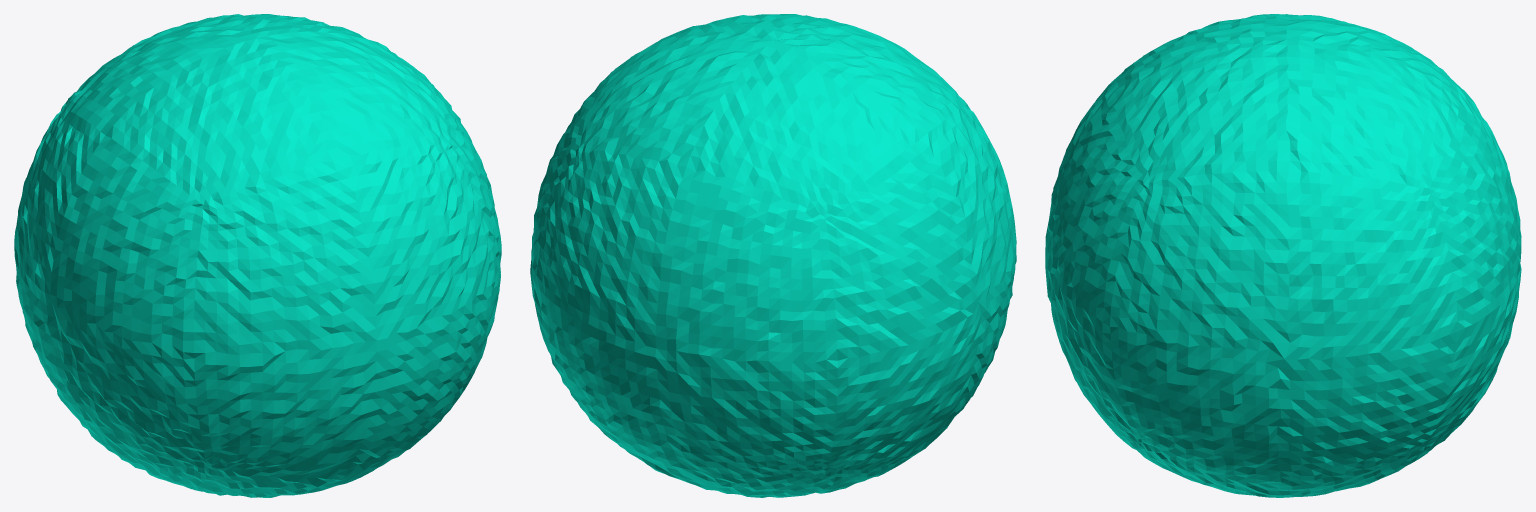
Rendered from Sea29.fbx.
The picture shows the model from 3 angles, left to right: view 1: azimuth 30°, elevation 25°; view 2: azimuth 150°, elevation 25°; view 3: azimuth 270°, elevation 25°; orthographic projection.
Visible parts, largest first — view 1: pCube1; view 2: pCube1; view 3: pCube1.
Boxes of the visible parts, x1=… form: pCube1: x1=14, y1=14, x2=501, y2=497; pCube1: x1=530, y1=14, x2=1016, y2=497; pCube1: x1=1045, y1=14, x2=1521, y2=497.
Size of the model in its own units: 39.99 by 39.95 by 39.9.
